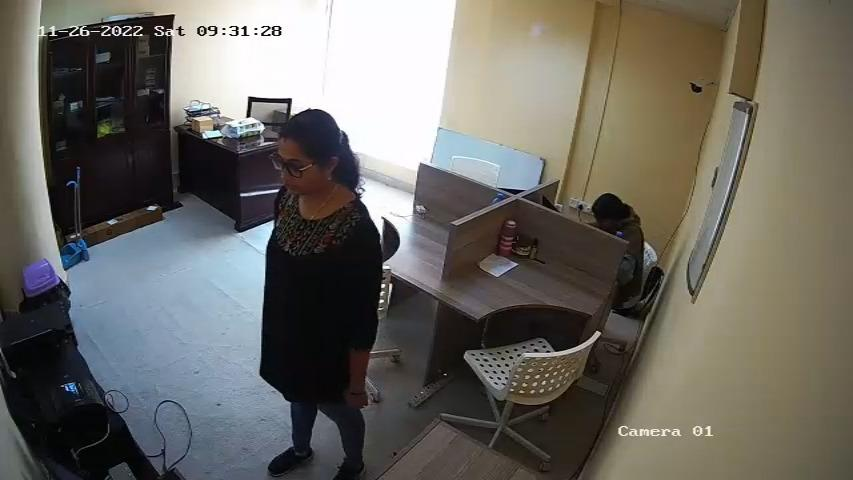no_apron: (271, 195, 357, 372)
